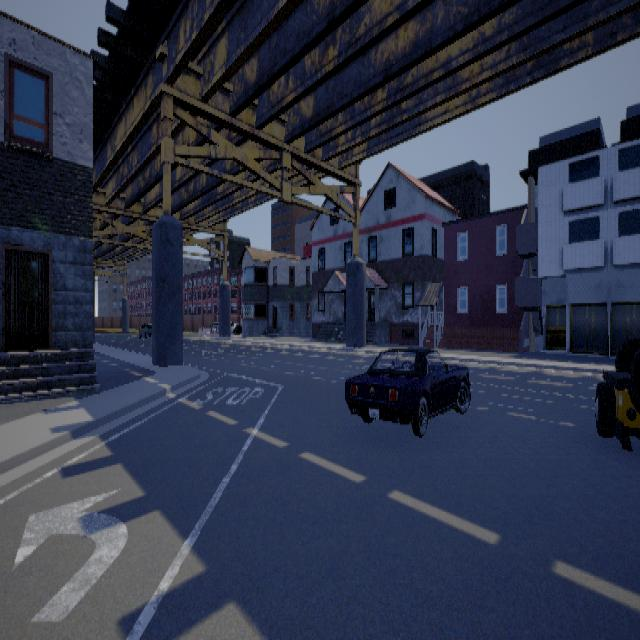vehicle: (344, 345, 470, 436), (594, 337, 639, 450)
